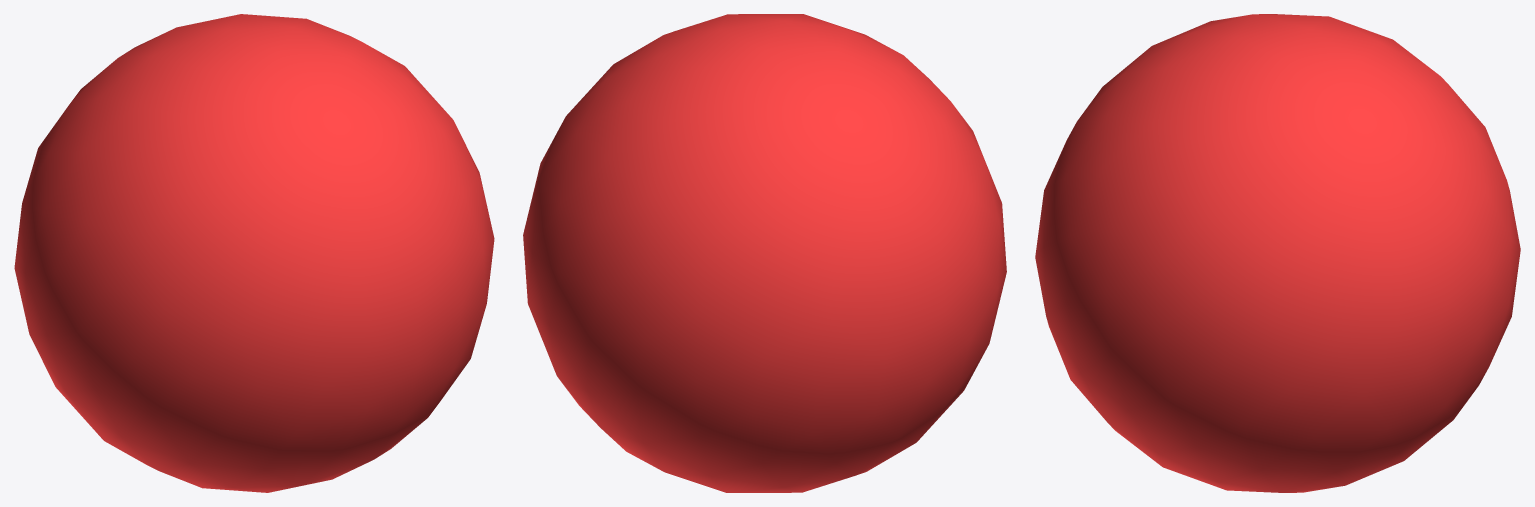
The model's file is Oxygen.glb.
The picture shows the model from 3 angles, left to right: view 1: azimuth 30°, elevation 25°; view 2: azimuth 150°, elevation 25°; view 3: azimuth 270°, elevation 25°; orthographic projection.
Parts seen in each view (by area): view 1: Oxygen; view 2: Oxygen; view 3: Oxygen.
Part boxes in pixels (x1,y1,x2,y2): Oxygen: (14, 14, 494, 492); Oxygen: (523, 14, 1006, 492); Oxygen: (1035, 14, 1520, 492).
Size of the model in its own units: 0.6254 by 0.626 by 0.6324.
